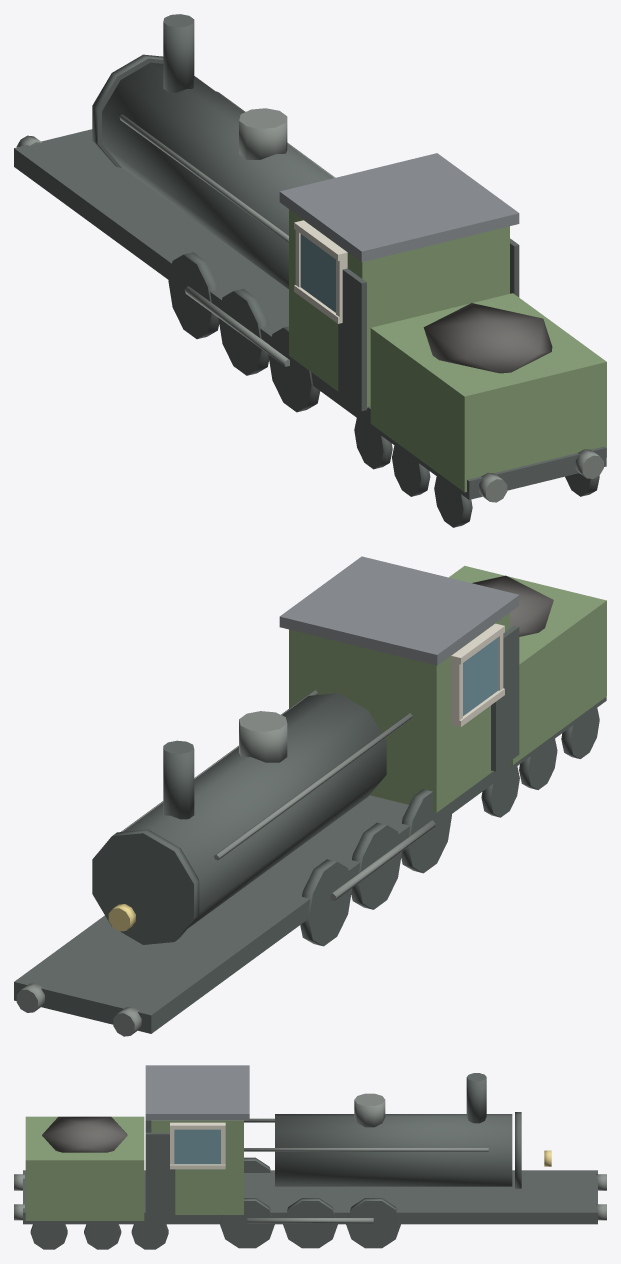
The model's file is tyne-j21_lod1.glb.
The picture shows the model from 3 angles, top to bottom: view 1: azimuth 30°, elevation 25°; view 2: azimuth 150°, elevation 25°; view 3: azimuth 270°, elevation 25°; orthographic projection. The views are drawn at different scales.
Visible parts, largest first — view 1: RF_Tender, RF_Boiler, RF_Chassis, RF_CabRoof, RF_Cab, RF_TenderCoal, RF_CabDoor.001, RF_DrivingWheel.003, RF_DrivingWheel.002, RF_Chimney, RF_Dome, RF_DrivingWheel.001 (+8 smaller); view 2: RF_Chassis, RF_Boiler, RF_Cab, RF_CabRoof, RF_Tender, RF_SmokeboxFront, RF_DrivingWheel.003, RF_CabDoor.001, RF_DrivingWheel.002, RF_DrivingWheel.001, RF_Chimney, RF_Dome (+11 smaller); view 3: RF_Boiler, RF_Chassis, RF_Tender, RF_CabRoof, RF_Cab, RF_TenderCoal, RF_CabDoor, RF_DrivingWheel, RF_DrivingWheel.005, RF_DrivingWheel.004, RF_Window, RF_Chimney (+10 smaller).
Boxes of the visible parts, bbox=[...] form: RF_Tender: bbox=[370, 293, 606, 492]; RF_Boiler: bbox=[102, 62, 333, 288]; RF_Chassis: bbox=[14, 129, 606, 499]; RF_CabRoof: bbox=[279, 153, 519, 262]; RF_Cab: bbox=[289, 209, 509, 408]; RF_TenderCoal: bbox=[423, 303, 552, 373]; RF_CabDoor.001: bbox=[338, 268, 366, 411]; RF_DrivingWheel.003: bbox=[168, 252, 219, 339]; RF_DrivingWheel.002: bbox=[218, 288, 269, 375]; RF_Chimney: bbox=[163, 14, 194, 92]; RF_Dome: bbox=[239, 108, 287, 159]; RF_DrivingWheel.001: bbox=[268, 326, 320, 412]; RF_Chassis: bbox=[14, 697, 606, 1033]; RF_Boiler: bbox=[123, 693, 386, 927]; RF_Cab: bbox=[289, 612, 509, 812]; RF_CabRoof: bbox=[279, 556, 519, 665]; RF_Tender: bbox=[449, 565, 606, 764]; RF_SmokeboxFront: bbox=[92, 829, 199, 944]; RF_DrivingWheel.003: bbox=[300, 859, 351, 946]; RF_CabDoor.001: bbox=[491, 625, 519, 771]; RF_DrivingWheel.002: bbox=[351, 822, 401, 909]; RF_DrivingWheel.001: bbox=[401, 789, 451, 873]; RF_Chimney: bbox=[163, 740, 194, 819]; RF_Dome: bbox=[239, 711, 287, 762]; RF_Boiler: bbox=[275, 1114, 512, 1186]; RF_Chassis: bbox=[23, 1170, 597, 1224]; RF_Tender: bbox=[25, 1116, 144, 1220]; RF_CabRoof: bbox=[145, 1065, 249, 1120]; RF_Cab: bbox=[151, 1120, 243, 1214]; RF_TenderCoal: bbox=[42, 1116, 127, 1152]; RF_CabDoor: bbox=[145, 1132, 175, 1214]; RF_DrivingWheel: bbox=[346, 1198, 400, 1248]; RF_DrivingWheel.005: bbox=[283, 1198, 337, 1248]; RF_DrivingWheel.004: bbox=[220, 1198, 274, 1248]; RF_Window: bbox=[174, 1129, 220, 1164]; RF_Chimney: bbox=[466, 1073, 486, 1123].
Bounding box in the file's own units: 3.28 × 4.5 × 15.98.
